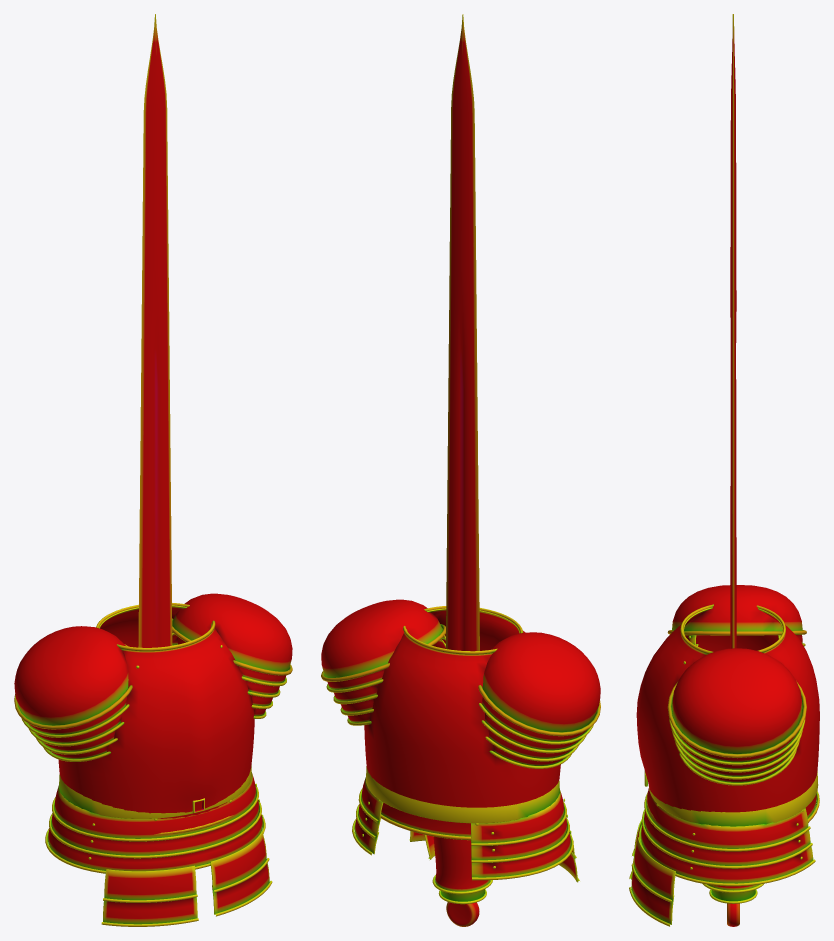
The model's file is kitten_armor.glb.
3 views of the same model, side by side, from view 1: azimuth 30°, elevation 25°; view 2: azimuth 150°, elevation 25°; view 3: azimuth 270°, elevation 25° (orthographic).
Visible parts, largest first — view 1: chest__plate__cuirass, pelvis__plate__fauld, sword__steel__blade, chest__plate__pauldronR, chest__plate__pauldronL, pelvis__leather__belt; view 2: chest__plate__cuirass, sword__steel__blade, chest__plate__pauldronR, chest__plate__pauldronL, pelvis__plate__fauld, pelvis__leather__belt, shin__plate__greave, sword__brass__pommel; view 3: chest__plate__pauldronL, chest__plate__cuirass, pelvis__plate__fauld, chest__plate__pauldronR, sword__steel__blade, pelvis__leather__belt, farm__plate__vambrace.
Boxes of the visible parts, box(x1,y1,x2,y2) form: chest__plate__cuirass: box(58, 603, 254, 834); pelvis__plate__fauld: box(45, 773, 272, 926); sword__steel__blade: box(138, 14, 172, 647); chest__plate__pauldronR: box(14, 626, 132, 761); chest__plate__pauldronL: box(172, 593, 292, 718); pelvis__leather__belt: box(59, 765, 251, 818); chest__plate__cuirass: box(364, 606, 560, 840); sword__steel__blade: box(446, 14, 479, 651); chest__plate__pauldronR: box(478, 632, 600, 768); chest__plate__pauldronL: box(321, 599, 445, 725); pelvis__plate__fauld: box(352, 777, 579, 882); pelvis__leather__belt: box(366, 766, 559, 823); shin__plate__greave: box(432, 836, 492, 894); sword__brass__pommel: box(446, 902, 479, 926); chest__plate__pauldronL: box(667, 648, 806, 785); chest__plate__cuirass: box(636, 604, 819, 822); pelvis__plate__fauld: box(629, 788, 815, 926); chest__plate__pauldronR: box(667, 585, 806, 646); sword__steel__blade: box(730, 14, 736, 648); pelvis__leather__belt: box(648, 771, 818, 826); farm__plate__vambrace: box(709, 889, 757, 903).
Bounding box in the file's own units: 0.1553 × 0.518 × 0.0984.
